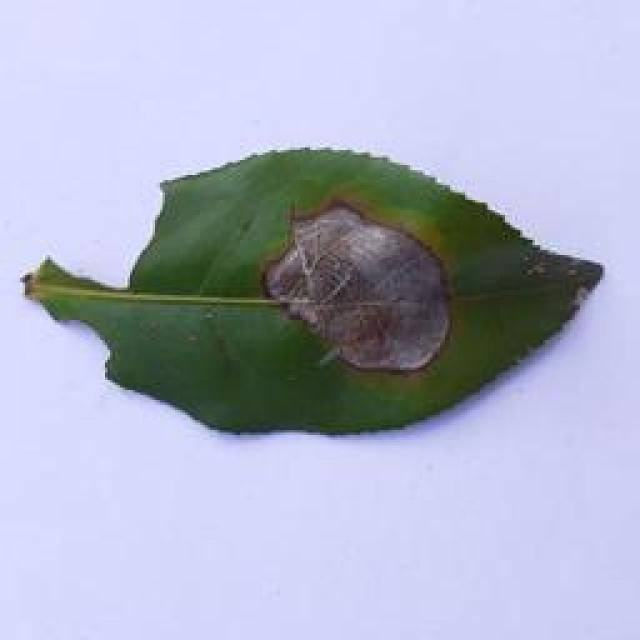Gray Blight: (23, 143, 610, 437)
